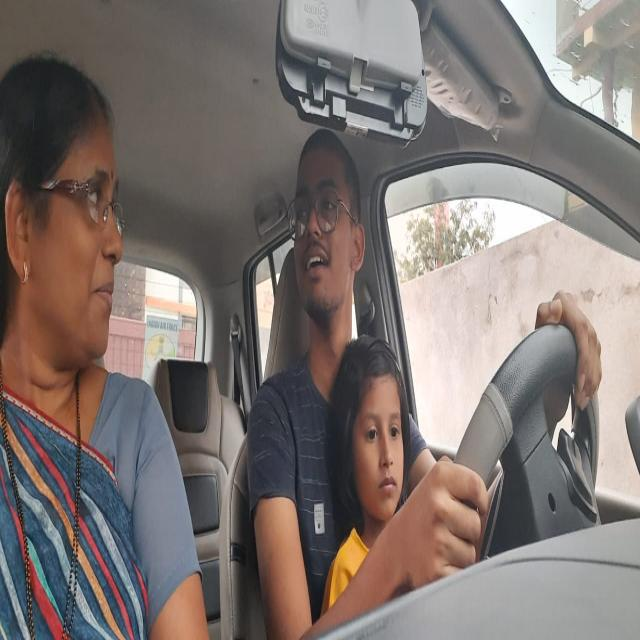LeftRight: (288, 129, 364, 332)
child: (326, 335, 411, 525)
person: (0, 42, 123, 378)
talking: (302, 244, 332, 279)
